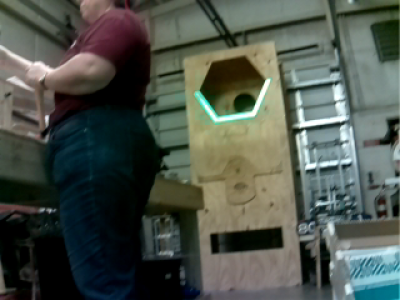target: (193, 79, 273, 122)
